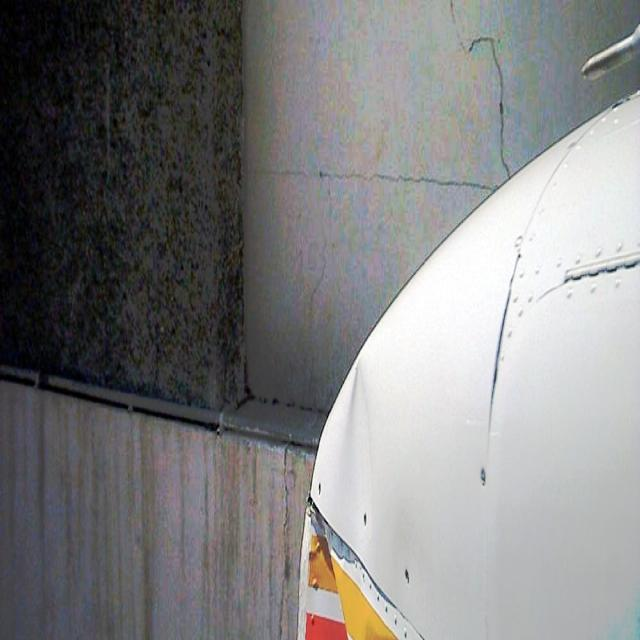dent: (292, 348, 377, 640)
